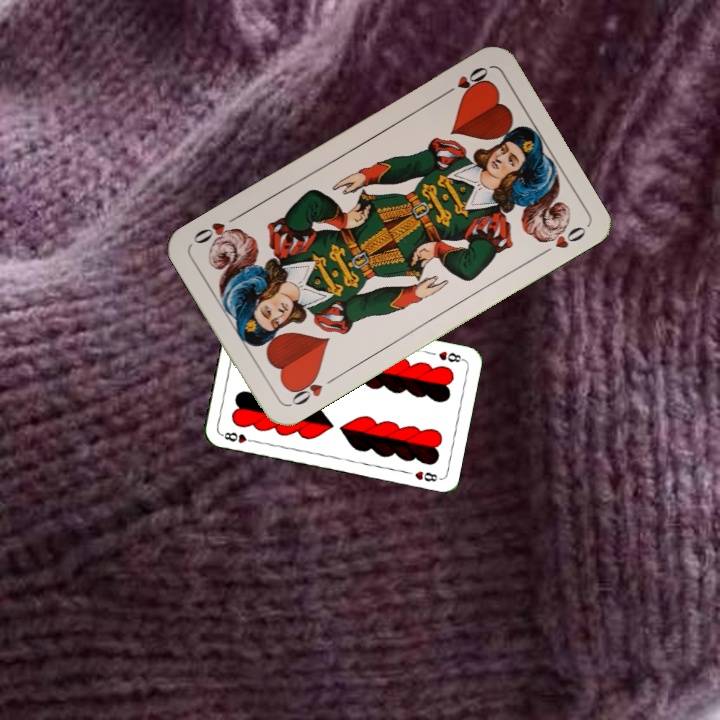H8: (217, 428, 258, 446), (434, 347, 466, 365)
HO: (285, 370, 339, 409), (438, 62, 491, 100)
